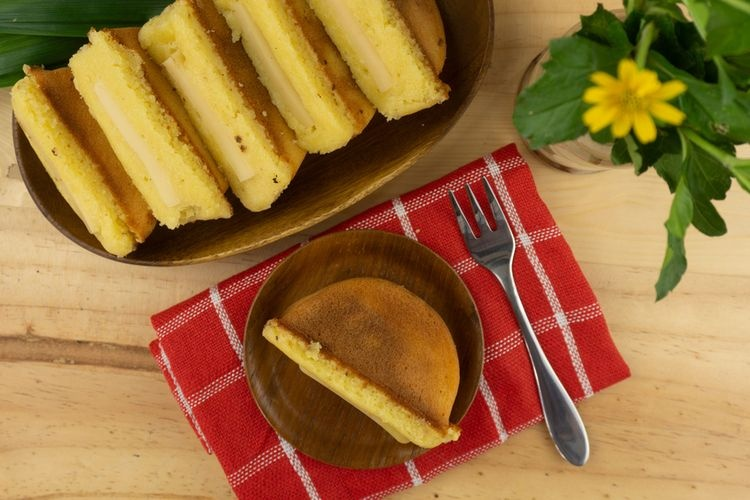pukis: (234, 279, 480, 467)
